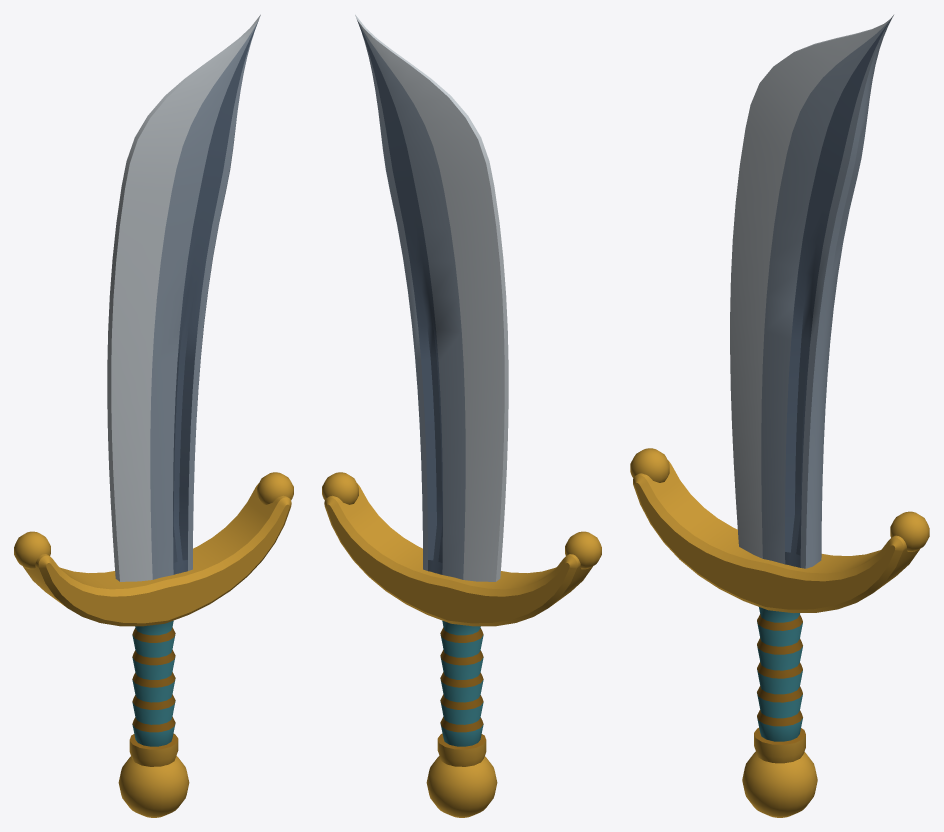
The model's file is Scimitar_22.glb.
The picture shows the model from 3 angles, left to right: view 1: azimuth 30°, elevation 25°; view 2: azimuth 150°, elevation 25°; view 3: azimuth 330°, elevation 25°; orthographic projection. The views are drawn at different scales.
Visible parts, largest first — view 1: Scimitar_22; view 2: Scimitar_22; view 3: Scimitar_22.
Part boxes in pixels (box(x1,y1,x2,y2)): Scimitar_22: box(14, 14, 293, 817); Scimitar_22: box(322, 14, 601, 817); Scimitar_22: box(630, 15, 929, 817).
Bounding box in the file's own units: 2.51 × 6.77 × 0.56.
